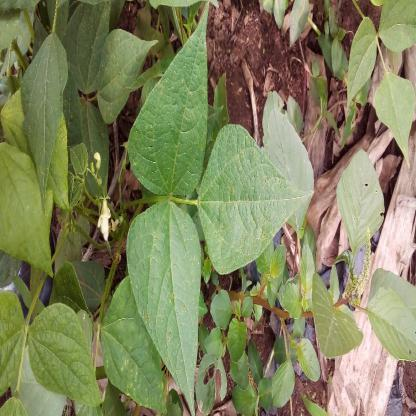Beans_Rust: (197, 123, 321, 275), (128, 206, 203, 414), (340, 146, 384, 256)
